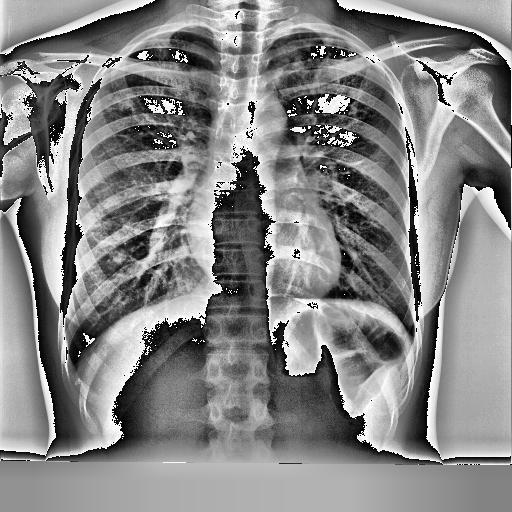13- Pulmonary fibrosis: (272, 37, 374, 136), (272, 32, 372, 117), (291, 30, 364, 114), (97, 93, 182, 136), (92, 92, 138, 114)
6- Infiltration: (272, 37, 374, 136), (93, 88, 142, 112)
